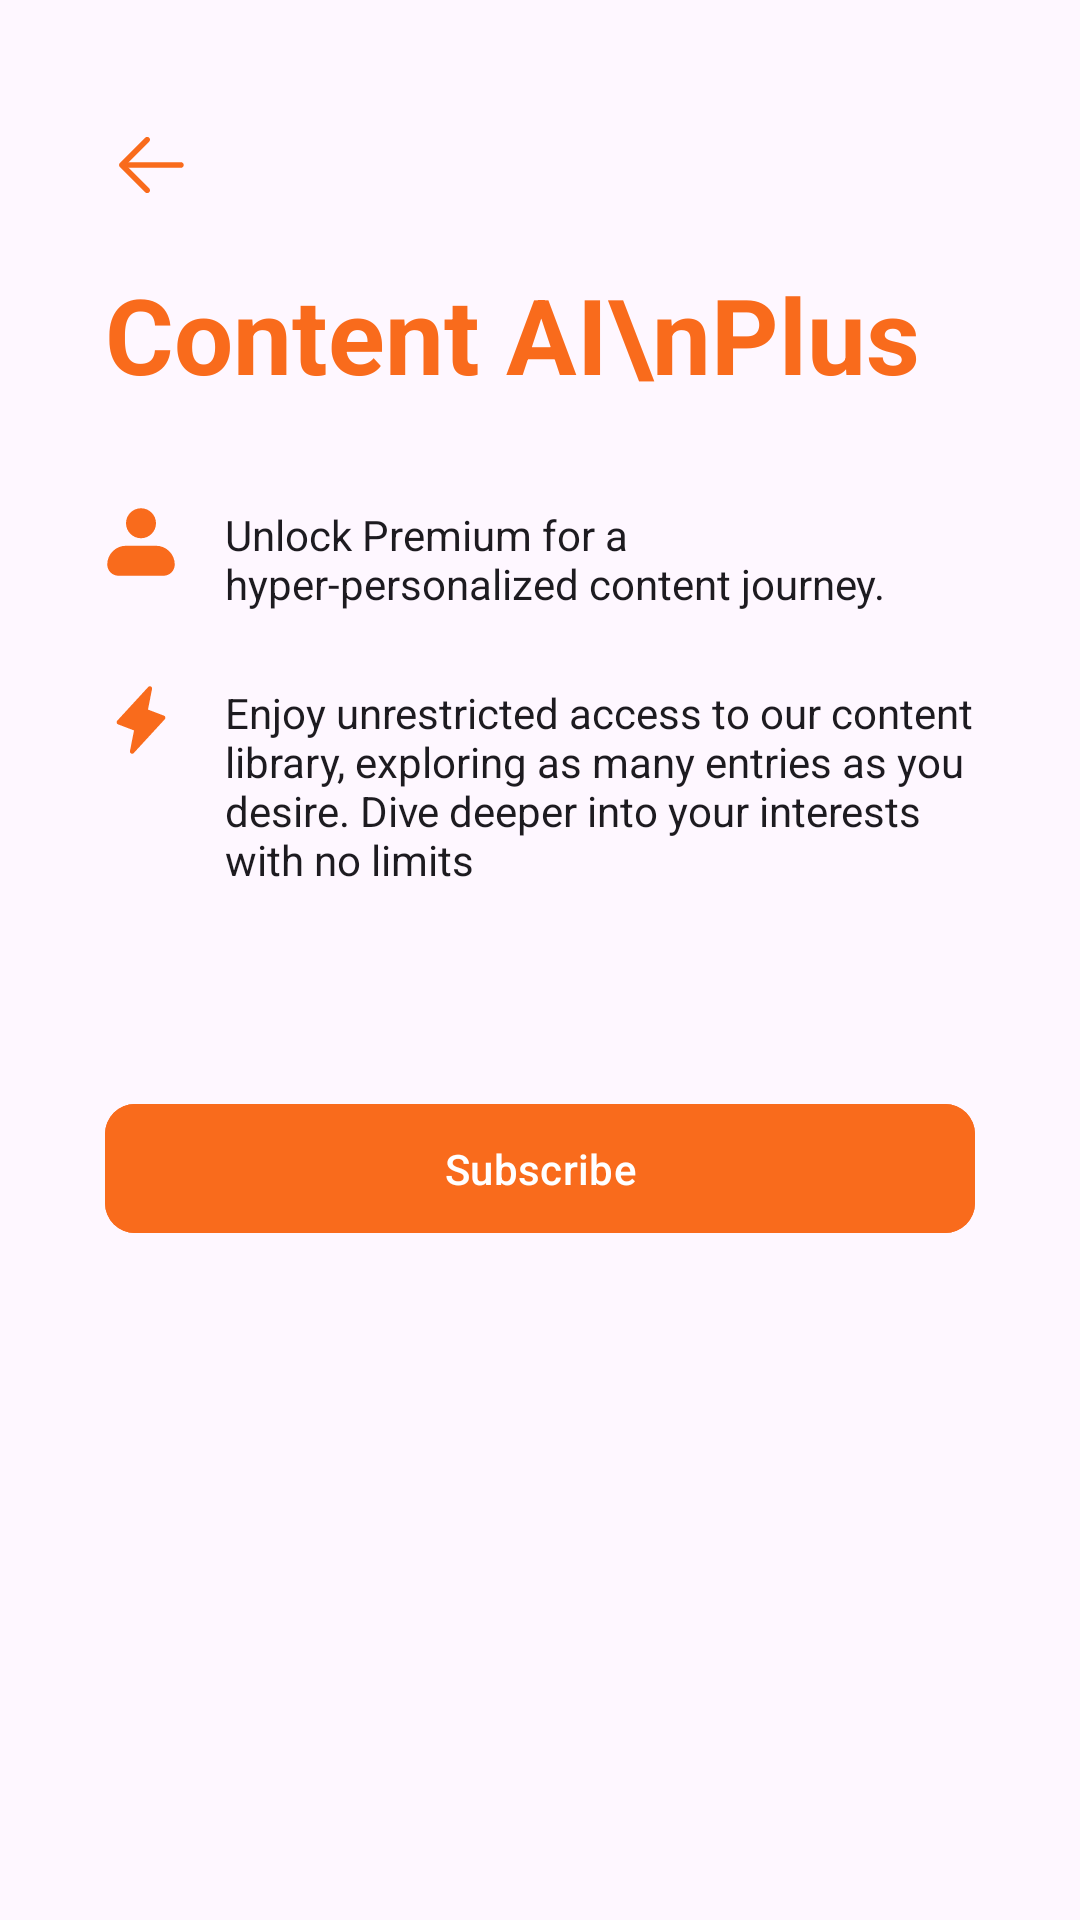

Named icons in this screenshot (1080*1920) and their bounding boxes, (x1, y1, x2, y2):
back: (119, 137, 184, 193)
lightning: (116, 686, 166, 754)
